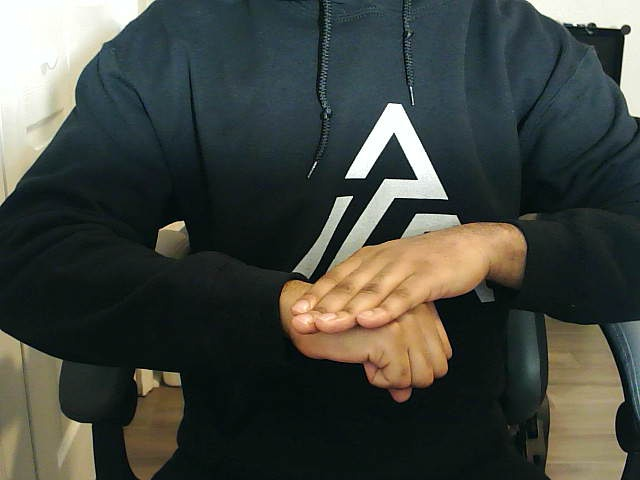Dog: (280, 221, 526, 404)
